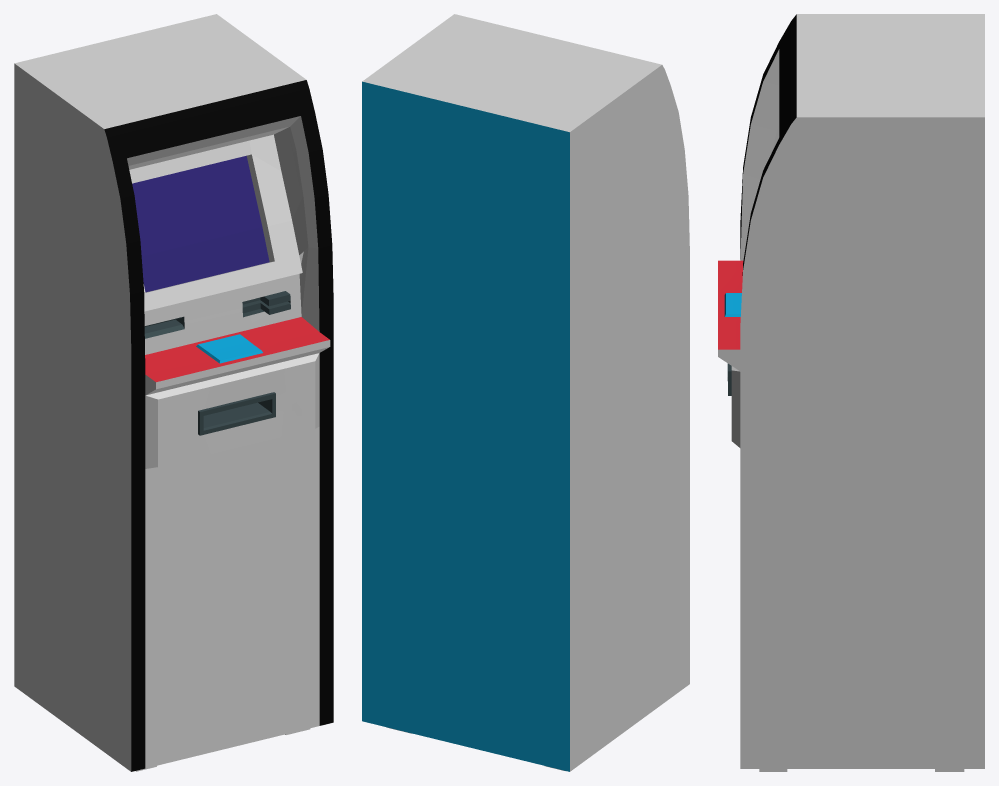
File: Atm.fbx
The picture shows the model from 3 angles, left to right: view 1: azimuth 30°, elevation 25°; view 2: azimuth 150°, elevation 25°; view 3: azimuth 270°, elevation 25°; orthographic projection. The views are drawn at different scales.
Visible parts, largest first — view 1: ATM, dISPLY; view 2: ATM; view 3: ATM.
Boxes of the visible parts, x1=… form: ATM: x1=14, y1=14, x2=333, y2=771; dISPLY: x1=132, y1=155, x2=269, y2=292; ATM: x1=362, y1=14, x2=689, y2=771; ATM: x1=718, y1=14, x2=984, y2=771.
Size of the model in its own units: 81.14 by 242 by 88.54.
